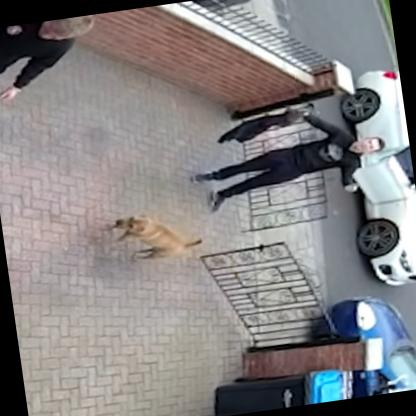Human Body: (174, 93, 394, 221)
